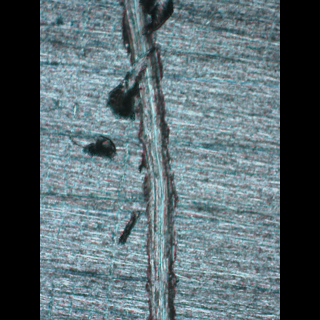d: (74, 0, 190, 320)
